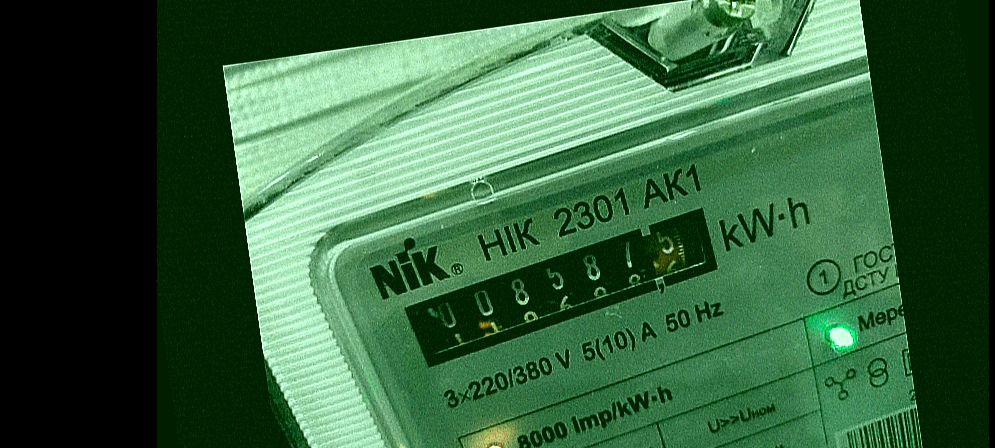0: (469, 282, 500, 319), (433, 295, 463, 331)
5: (543, 259, 570, 293), (653, 222, 679, 255)
6: (662, 256, 683, 275)
7: (615, 236, 642, 273)
8: (507, 273, 536, 308), (579, 248, 606, 284)
screen: (389, 202, 749, 371)
